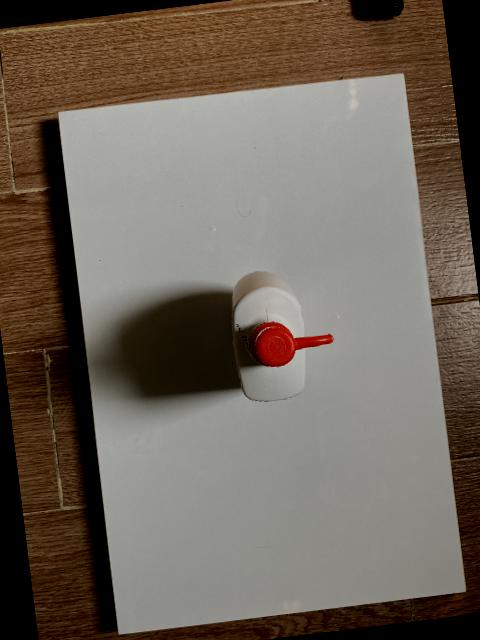life-buoy: (230, 269, 333, 400)
